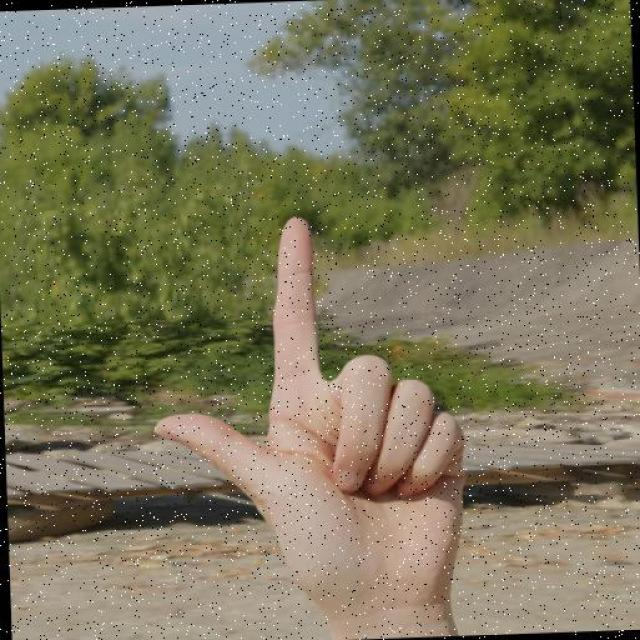L: (142, 209, 479, 600)
